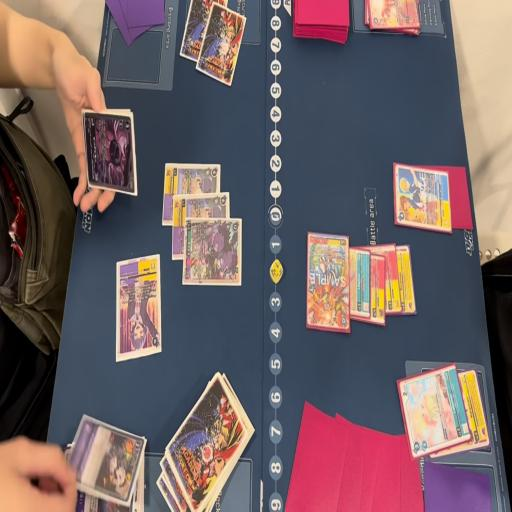card: (399, 364, 468, 462), (64, 424, 147, 505), (113, 252, 162, 363), (305, 231, 350, 335), (184, 220, 242, 291), (85, 115, 136, 194), (171, 193, 229, 262), (161, 164, 224, 225), (394, 168, 451, 234), (460, 364, 488, 452), (394, 245, 418, 320), (348, 248, 372, 320), (369, 256, 386, 332), (384, 240, 401, 313)
